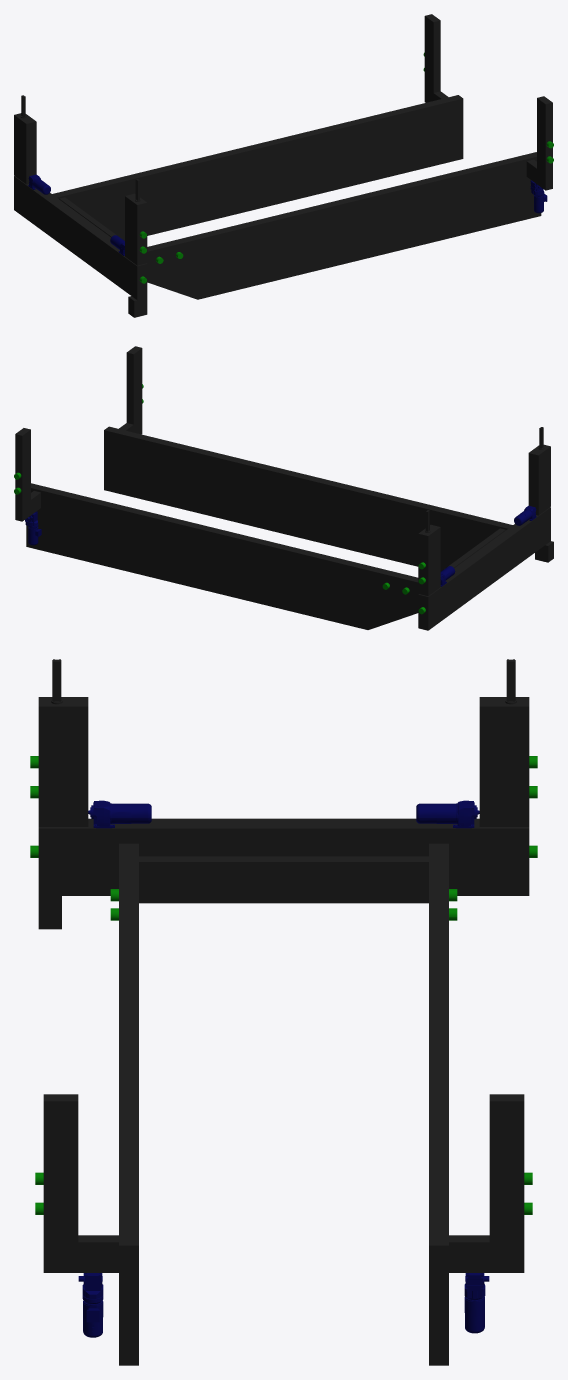
File: LST2-RIGHT.obj
3 renders of one model, top to bottom at view 1: azimuth 30°, elevation 25°; view 2: azimuth 150°, elevation 25°; view 3: azimuth 270°, elevation 25°, orthographic. The views are drawn at different scales.
Parts seen in each view (by area): view 1: LST2-RIGHT; view 2: LST2-RIGHT; view 3: LST2-RIGHT.
Boxes of the visible parts, x1,y1,x2,y2 form: LST2-RIGHT: [14, 14, 553, 317]; LST2-RIGHT: [14, 346, 553, 630]; LST2-RIGHT: [30, 659, 537, 1365].
Bounding box in the file's own units: 5932 × 1988 × 3065.
